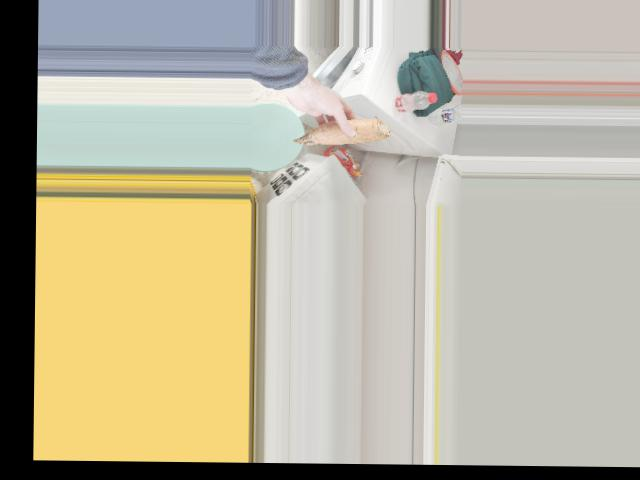sweet_potato: (299, 114, 394, 142)
